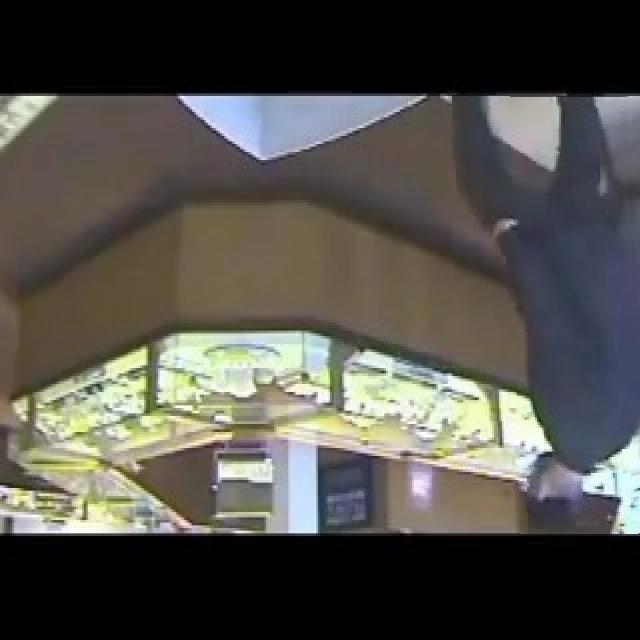normal: (452, 95, 638, 534)
